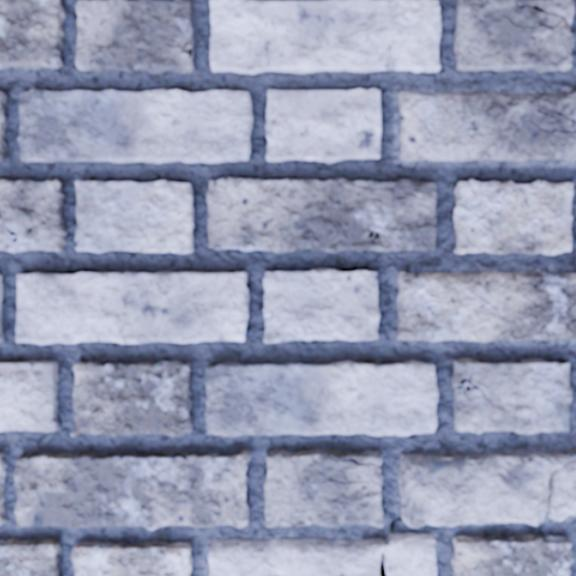brick: (14, 451, 249, 529), (206, 361, 437, 435), (19, 90, 253, 163), (207, 178, 436, 252), (211, 0, 440, 73), (17, 273, 248, 343), (266, 450, 384, 527), (72, 362, 192, 436), (452, 359, 572, 433), (455, 180, 573, 254), (77, 0, 193, 73), (455, 0, 574, 71), (265, 269, 379, 342), (77, 181, 193, 252), (267, 89, 380, 161), (453, 535, 572, 575), (0, 180, 66, 251), (0, 0, 65, 69), (0, 361, 59, 431), (73, 542, 192, 575), (0, 540, 61, 575), (0, 92, 7, 160), (0, 454, 5, 524), (0, 275, 2, 341)
broken_brick: (398, 448, 575, 529), (397, 89, 575, 164), (396, 269, 575, 343), (207, 533, 437, 575)
crack: (503, 1, 574, 34), (453, 375, 495, 409), (318, 471, 382, 487), (328, 453, 381, 468), (544, 468, 558, 518), (342, 179, 397, 191), (530, 121, 575, 134), (537, 109, 575, 123), (0, 216, 18, 243), (379, 541, 388, 575), (390, 517, 407, 534), (557, 446, 575, 461), (180, 41, 193, 59), (170, 0, 190, 4), (206, 411, 214, 418), (19, 135, 26, 143), (74, 240, 79, 247), (562, 273, 571, 275)
